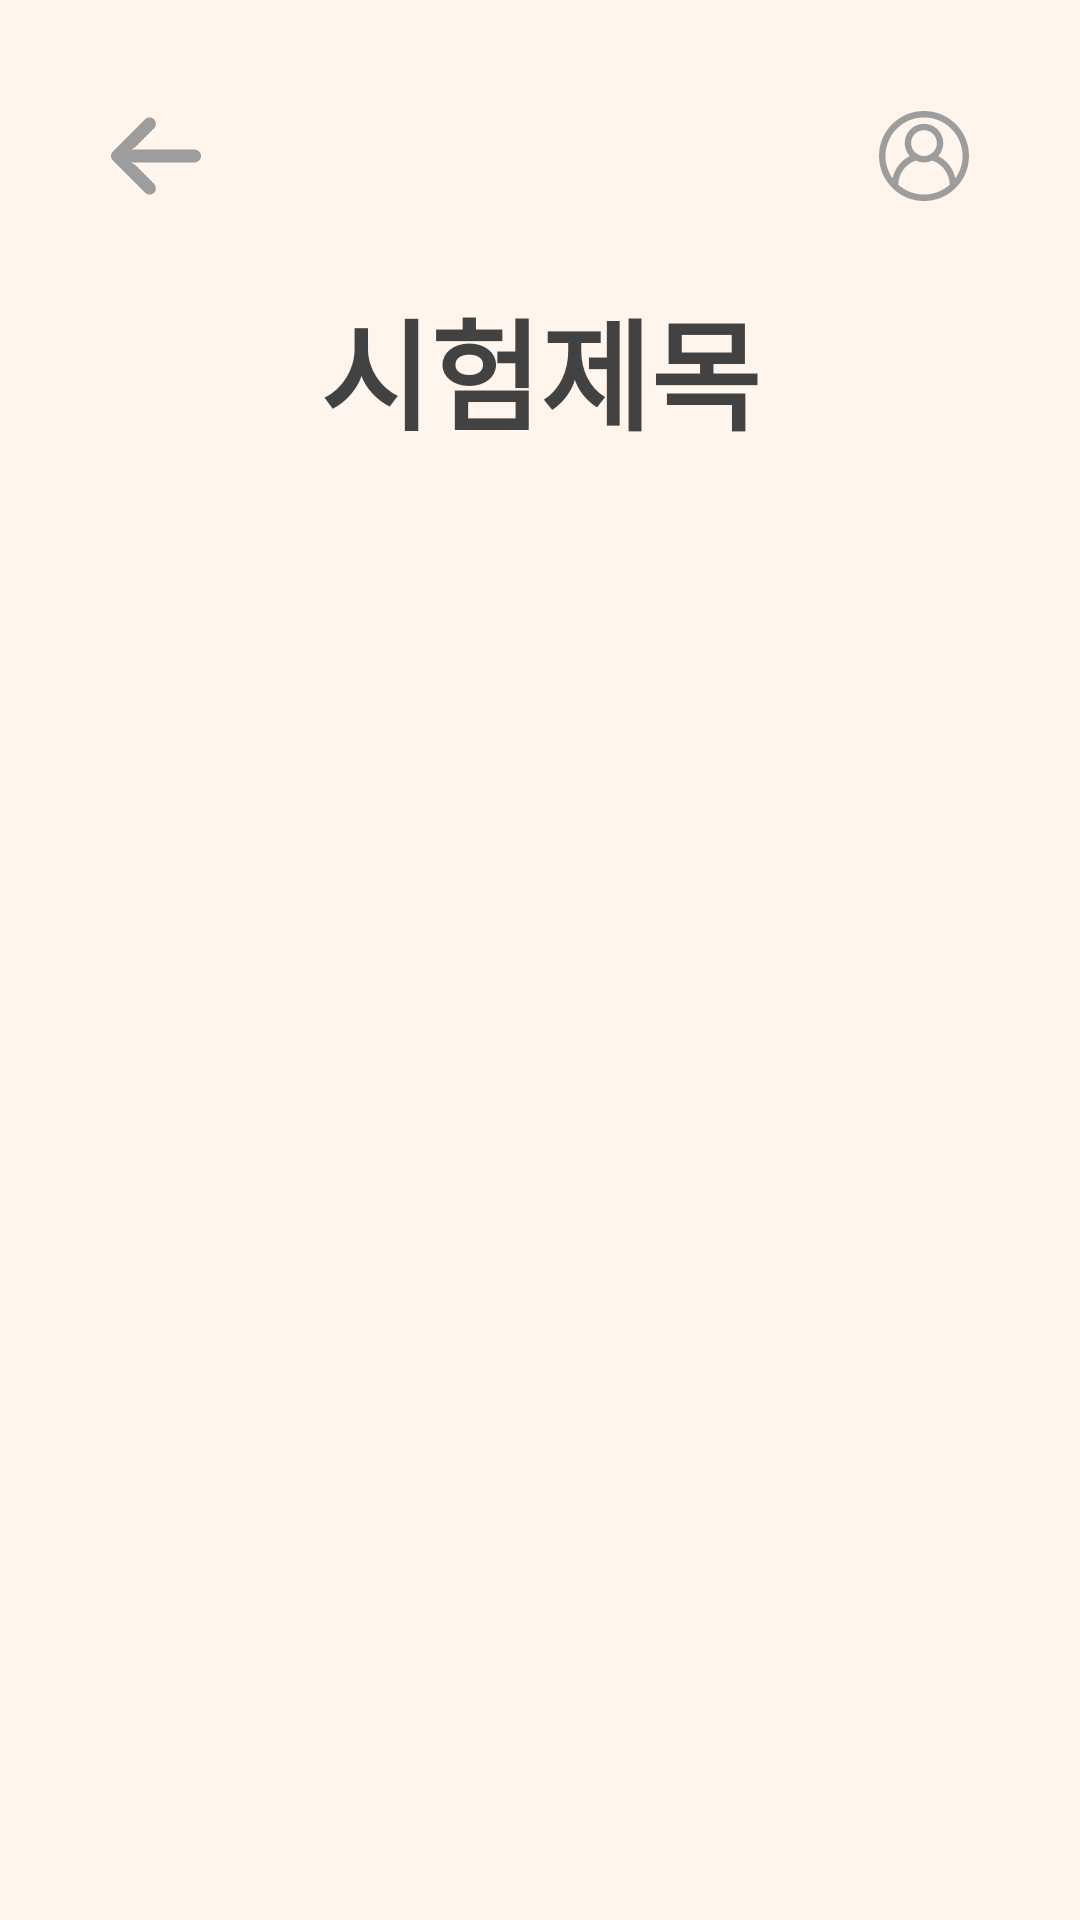

Icon bounding boxes for this 1080×1920 phone screenshot, format (x1,y1,x2,y2):
left arrow: (111,117,201,195)
